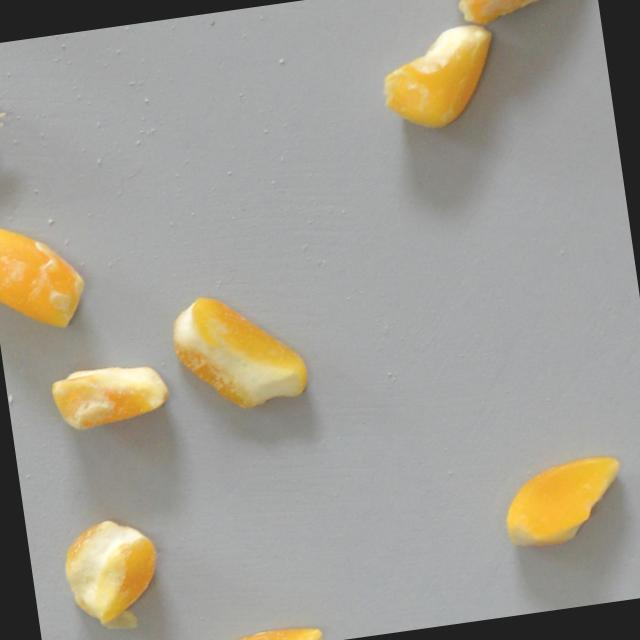dañado: (161, 277, 322, 423), (491, 448, 637, 557), (54, 510, 171, 640), (0, 209, 98, 345), (40, 354, 182, 442), (197, 620, 329, 640), (0, 82, 14, 159)
pelicula: (371, 18, 506, 138)
punto_negro: (449, 0, 598, 30)
